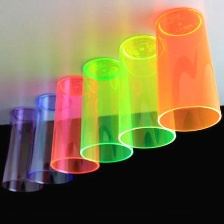glass: (152, 5, 224, 132), (112, 32, 178, 150), (75, 54, 139, 166), (45, 71, 110, 177), (23, 88, 83, 188), (0, 104, 46, 198)
